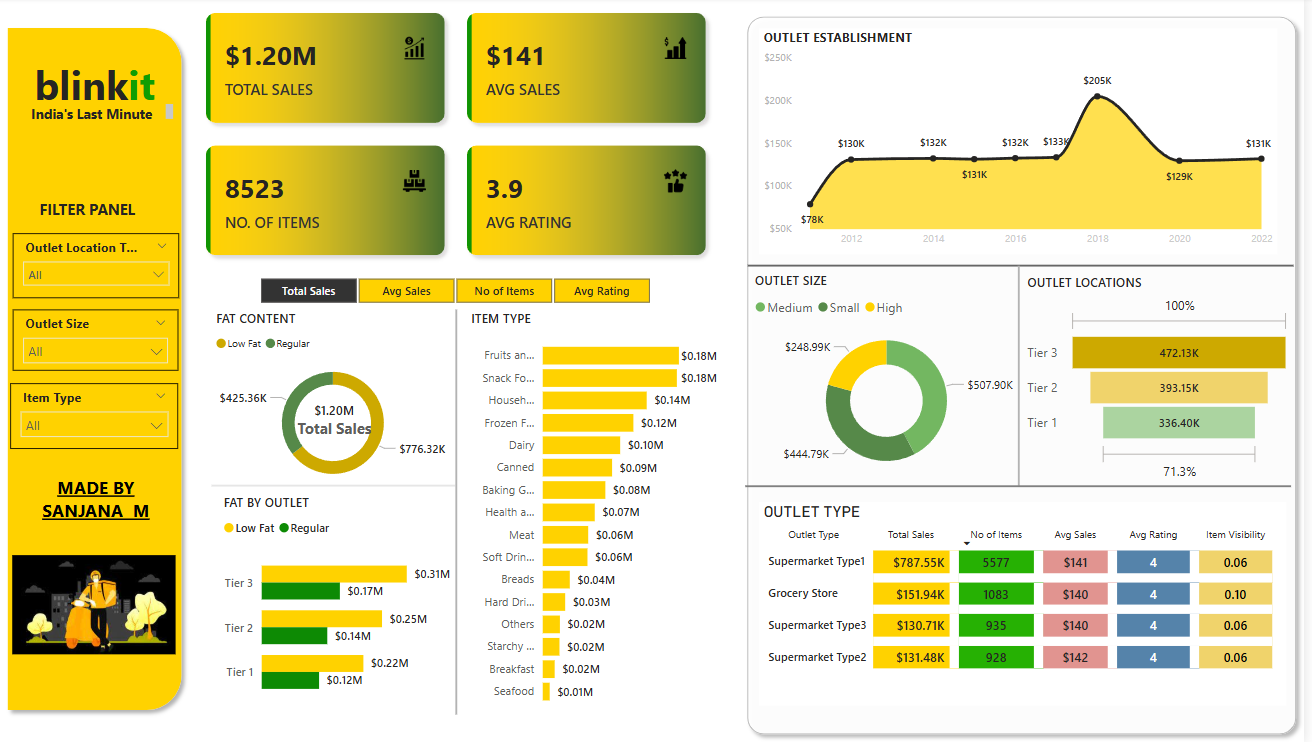

The dashboard page shown, as its layout file describes it:
{"tool":"powerbi","page":{"name":"Page 1","canvas":[1400,800],"ordinal":0},"visuals":[{"type":"shape","box":[0,24.1,205.1,749.3],"z":0},{"type":"textbox","box":[0,59,205.1,69.7],"z":1000},{"type":"textbox","box":[14.3,110,177.1,35.7],"z":2000},{"type":"cardVisual","fields":{"Data":["BlinkIT Grocery Data.Total Sales","BlinkIT Grocery Data.Avg Sales","BlinkIT Grocery Data.No of Items","BlinkIT Grocery Data.Avg Rating"]},"box":[205.2,0,570.7,294.8],"z":3000},{"type":"shape","box":[793.3,12,606.7,788],"z":4000},{"type":"donutChart","title":"FAT CONTENT ","fields":{"Y":["BlinkIT Grocery Data.Total Sales"],"Category":["BlinkIT Grocery Data.Item Fat Content"]},"box":[228,334.7,261.3,198.7],"z":5000},{"type":"slicer","fields":{"Values":["Metrics.Metrics"]},"box":[255.2,294.8,467.2,39.7],"z":6000},{"type":"cardVisual","fields":{"Data":["BlinkIT Grocery Data.Total Sales"]},"box":[293.1,417.2,132.8,65.5],"z":7000},{"type":"clusteredBarChart","title":"FAT BY OUTLET ","fields":{"Y":["BlinkIT Grocery Data.Total Sales"],"Category":["BlinkIT Grocery Data.Outlet Location Type"],"Series":["BlinkIT Grocery Data.Item Fat Content"]},"box":[236.2,532.8,253.4,236.2],"z":8000},{"type":"shape","box":[228,496,261.3,56],"z":9000},{"type":"shape","box":[454.7,334.7,72,434.7],"z":10000},{"type":"barChart","title":"ITEM TYPE ","fields":{"Y":["BlinkIT Grocery Data.Total Sales"],"Category":["BlinkIT Grocery Data.Item Type"]},"box":[501.7,334.5,274.1,434.5],"z":11000},{"type":"lineChart","title":"OUTLET ESTABLISHMENT","fields":{"Y":["BlinkIT Grocery Data.Total Sales"],"Category":["BlinkIT Grocery Data.Outlet Establishment Year"]},"box":[814.7,33.3,556,242.7],"z":12000},{"type":"shape","box":[802.7,261.3,585.3,53.3],"z":13000},{"type":"donutChart","title":"OUTLET SIZE ","fields":{"Y":["BlinkIT Grocery Data.Total Sales"],"Category":["BlinkIT Grocery Data.Outlet Size"]},"box":[805.3,294.7,292,229.3],"z":14000},{"type":"shape","box":[1053.3,288,80,236],"z":15000},{"type":"funnel","title":"OUTLET LOCATIONS ","fields":{"Category":["BlinkIT Grocery Data.Outlet Location Type"],"Y":["Sum(BlinkIT Grocery Data.Sales)"]},"box":[1097.3,296,292,228],"z":16000},{"type":"shape","box":[800,496,585.3,57.3],"z":17000},{"type":"pivotTable","title":"OUTLET TYPE ","fields":{"Rows":["BlinkIT Grocery Data.Outlet Type"],"Values":["BlinkIT Grocery Data.Total Sales","BlinkIT Grocery Data.No of Items","BlinkIT Grocery Data.Avg Sales","BlinkIT Grocery Data.Avg Rating","Avg(BlinkIT Grocery Data.Item Visibility)"]},"box":[814.7,541.3,565.3,218.7],"z":18000},{"type":"slicer","fields":{"Values":["BlinkIT Grocery Data.Outlet Location Type"]},"box":[14.7,253.3,178.7,69.3],"z":19000},{"type":"slicer","fields":{"Values":["BlinkIT Grocery Data.Outlet Size"]},"box":[14.7,334.7,177.3,65.3],"z":20000},{"type":"slicer","fields":{"Values":["BlinkIT Grocery Data.Item Type"]},"box":[12,414.7,180,70.7],"z":21000},{"type":"textbox","box":[12,212,165.3,41.3],"z":22000},{"type":"textbox","box":[18.8,508,170.2,87.1],"z":22001},{"type":"image","box":[9.4,524.1,185,254.7],"z":22002}]}

Visuals, with their boxes in screenshot pixels (x1, y1, x2, y2), scaled from the page's 1400x800 canvas onto the 1312x742 screenshot:
shape: [0, 22, 192, 717]
textbox: [0, 55, 192, 119]
textbox: [13, 102, 179, 135]
cardVisual - BlinkIT Grocery Data.Total Sales x BlinkIT Grocery Data.Avg Sales: [192, 0, 727, 273]
shape: [743, 11, 1311, 741]
"FAT CONTENT " donutChart: [214, 310, 459, 495]
slicer - Metrics.Metrics: [239, 273, 677, 310]
cardVisual - BlinkIT Grocery Data.Total Sales: [275, 387, 399, 448]
"FAT BY OUTLET " clusteredBarChart: [221, 494, 459, 713]
shape: [214, 460, 459, 512]
shape: [426, 310, 494, 714]
"ITEM TYPE " barChart: [470, 310, 727, 713]
"OUTLET ESTABLISHMENT" lineChart: [763, 31, 1285, 256]
shape: [752, 242, 1301, 292]
"OUTLET SIZE " donutChart: [755, 273, 1028, 486]
shape: [987, 267, 1062, 486]
"OUTLET LOCATIONS " funnel: [1028, 275, 1302, 486]
shape: [750, 460, 1298, 513]
"OUTLET TYPE " pivotTable: [763, 502, 1293, 705]
slicer - BlinkIT Grocery Data.Outlet Location Type: [14, 235, 181, 299]
slicer - BlinkIT Grocery Data.Outlet Size: [14, 310, 180, 371]
slicer - BlinkIT Grocery Data.Item Type: [11, 385, 180, 450]
textbox: [11, 197, 166, 235]
textbox: [18, 471, 177, 552]
image: [9, 486, 182, 722]
